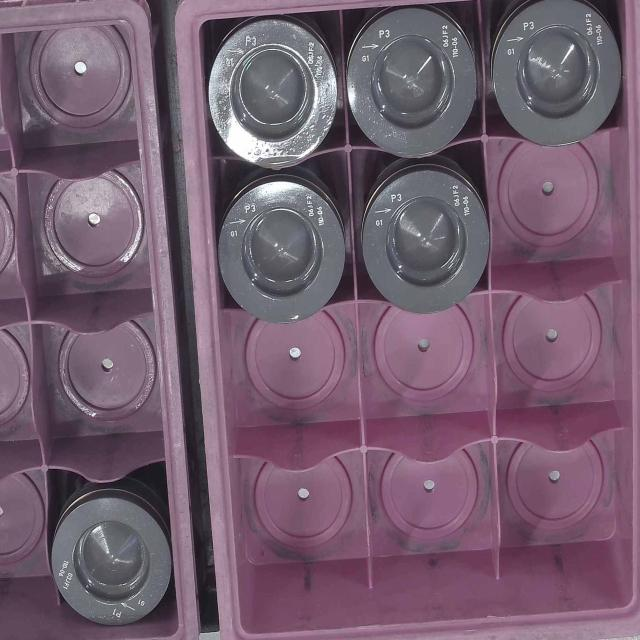P1: (47, 491, 166, 627)
P3: (202, 19, 336, 174), (348, 12, 480, 165), (491, 0, 618, 149), (360, 169, 490, 312), (219, 184, 341, 310)
